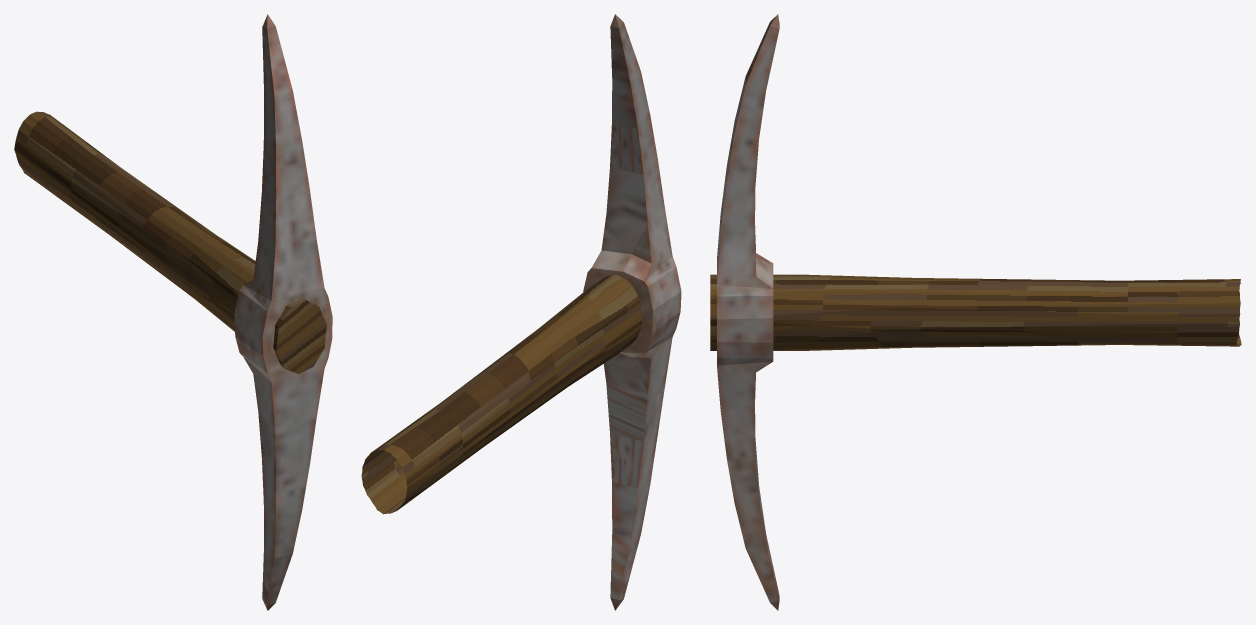
Rendered from pickaxe2.obj.
3 views of the same model, side by side, from view 1: azimuth 30°, elevation 25°; view 2: azimuth 150°, elevation 25°; view 3: azimuth 270°, elevation 25° (orthographic).
Parts seen in each view (by area): view 1: polySurface1; view 2: polySurface1; view 3: polySurface1.
Part boxes in pixels (<box>): polySurface1: <box>14,14,332,610</box>; polySurface1: <box>361,14,681,610</box>; polySurface1: <box>710,14,1241,610</box>.
Size of the model in its own units: 0.0312 by 0.2543 by 0.2051.
